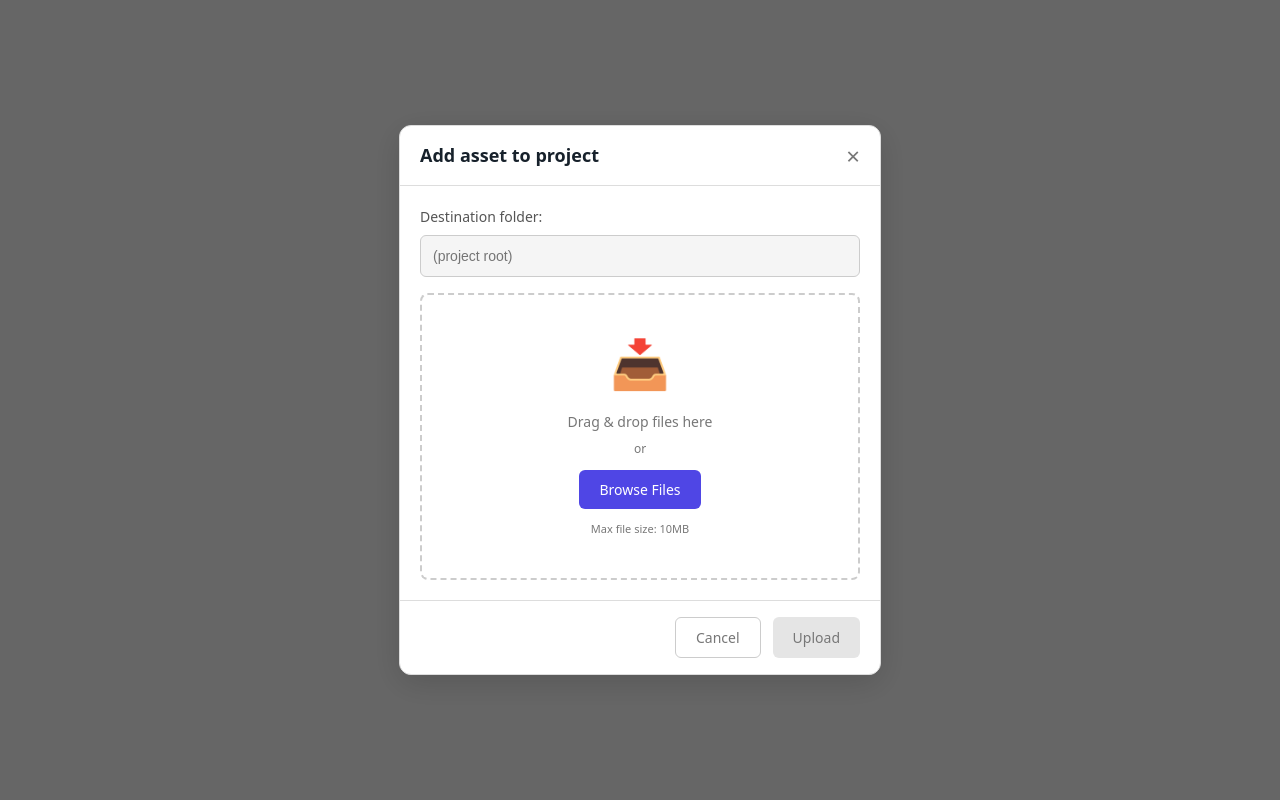
Test: NewAssetDialog › destination validation › reports an error for ".." segments
The width and height of the screenshot is (1280, 800).
Type "foo/.." into the field labelled "Destination folder:".
click(640, 256); type("foo/..")  # box x1=420 y1=235 x2=860 y2=277
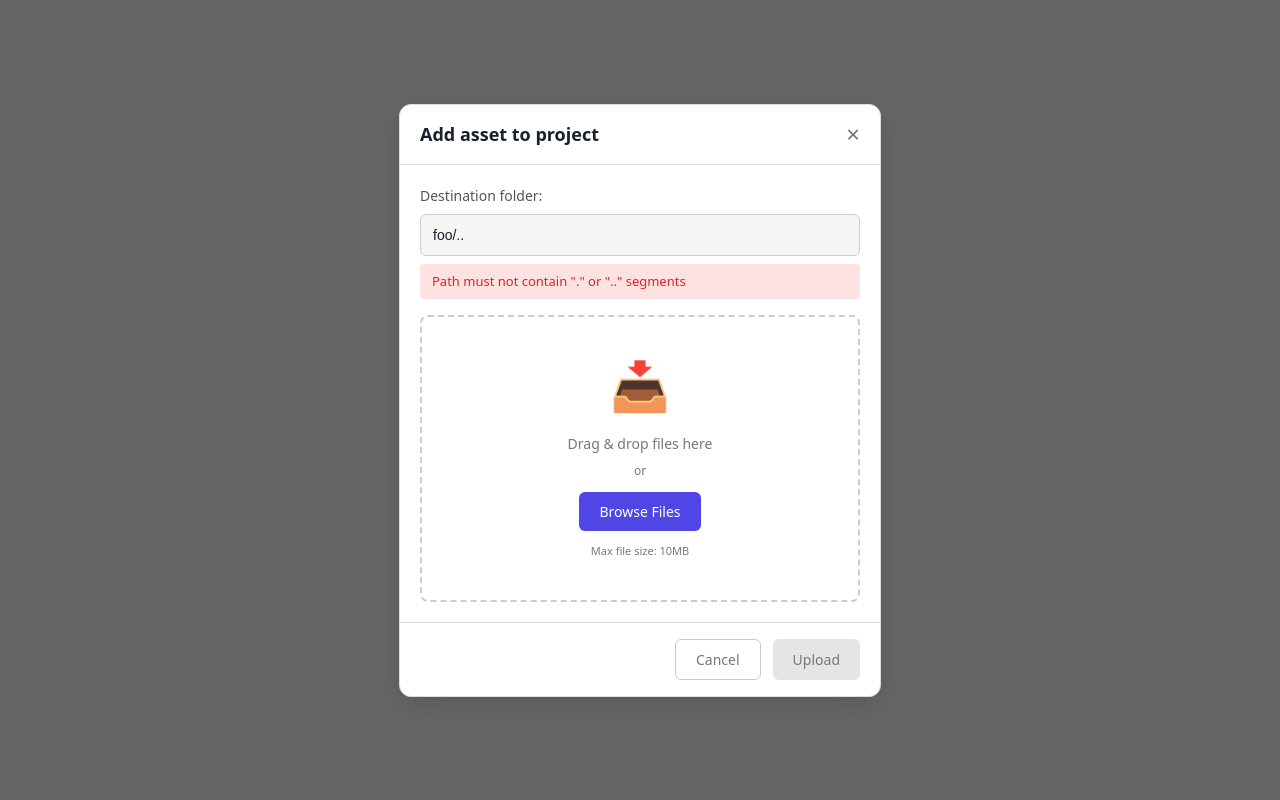
Result: the text "Path must not contain \".\" or \"..\" segments" is shown at x1=420 y1=264 x2=860 y2=299
